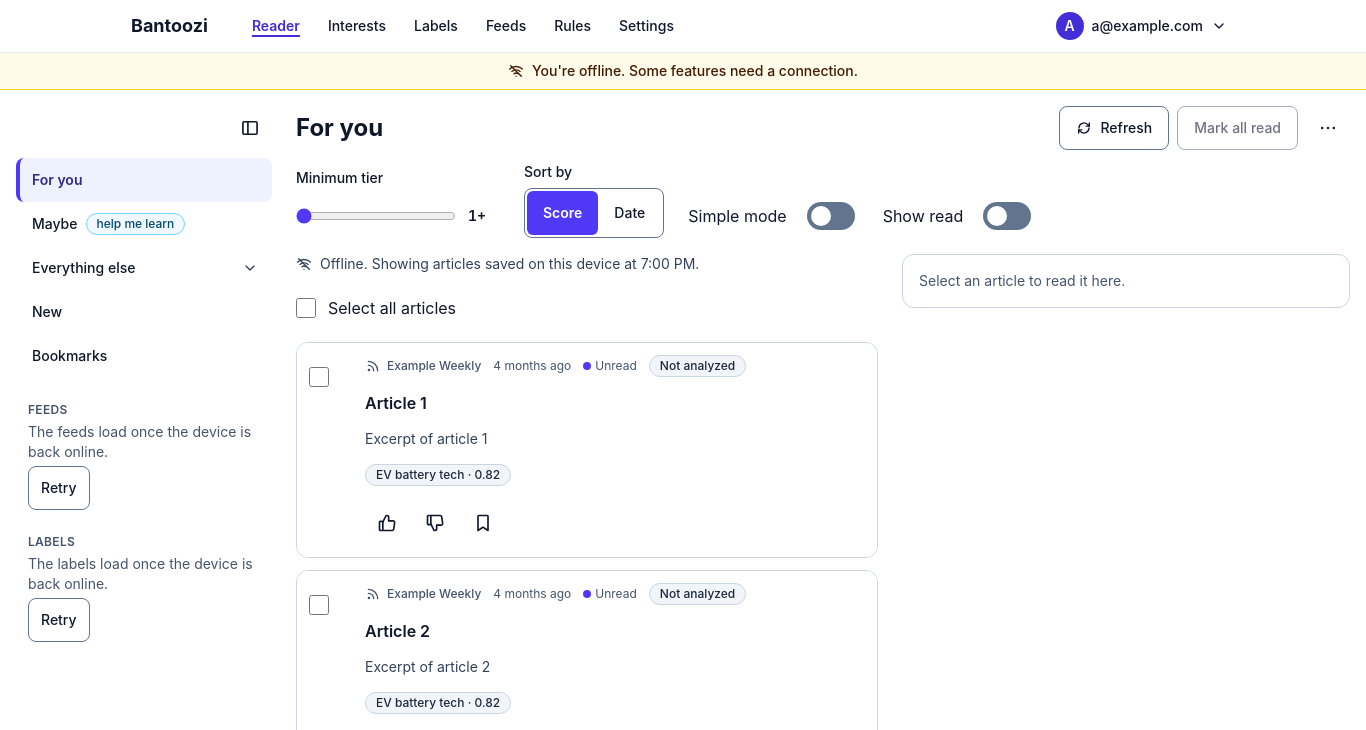
it: showing the saved list › says to connect for an article that was not opened before
Check: the text "Offline. Showing articles saved on this device at 7:00 PM." is shown, box [296, 255, 699, 272]
Click the button "Article 2".
click(398, 631)  # box [365, 609, 865, 653]
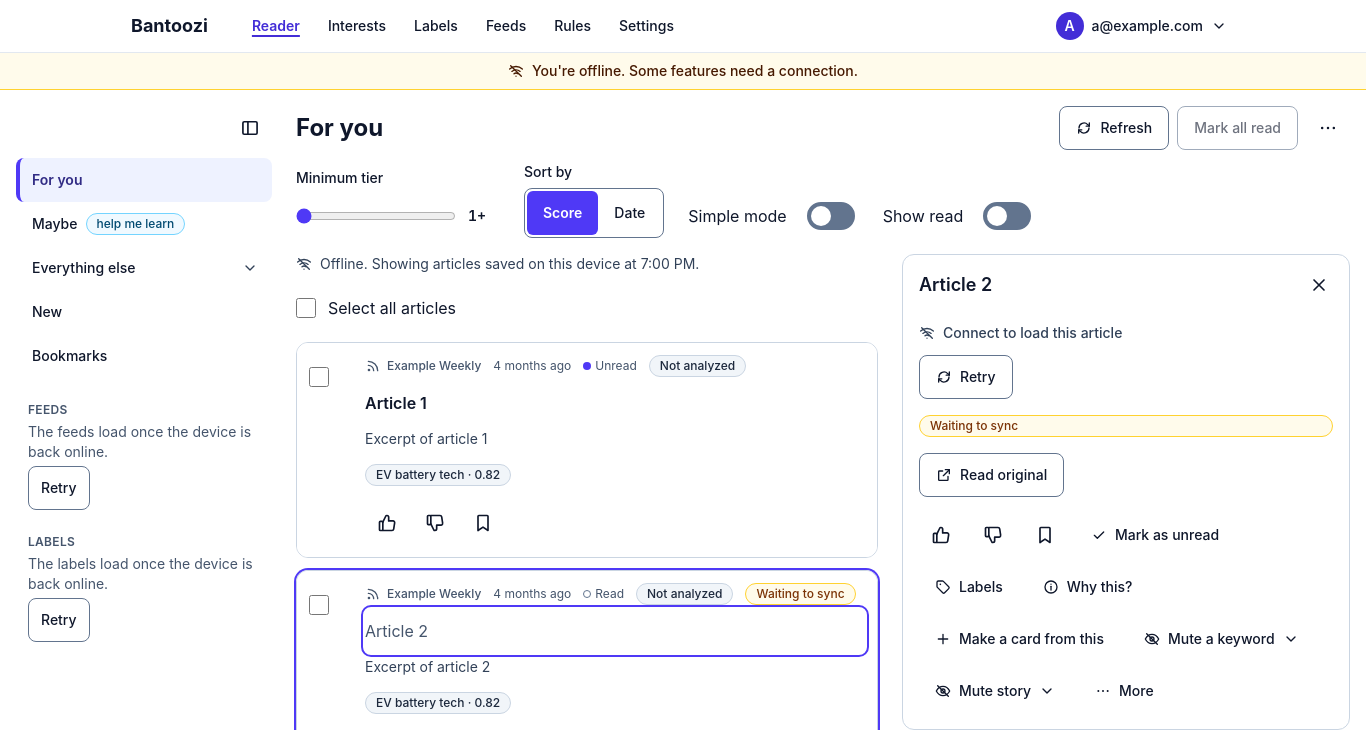
Check: the text "Connect to load this article" is shown, box [919, 323, 1122, 343]
